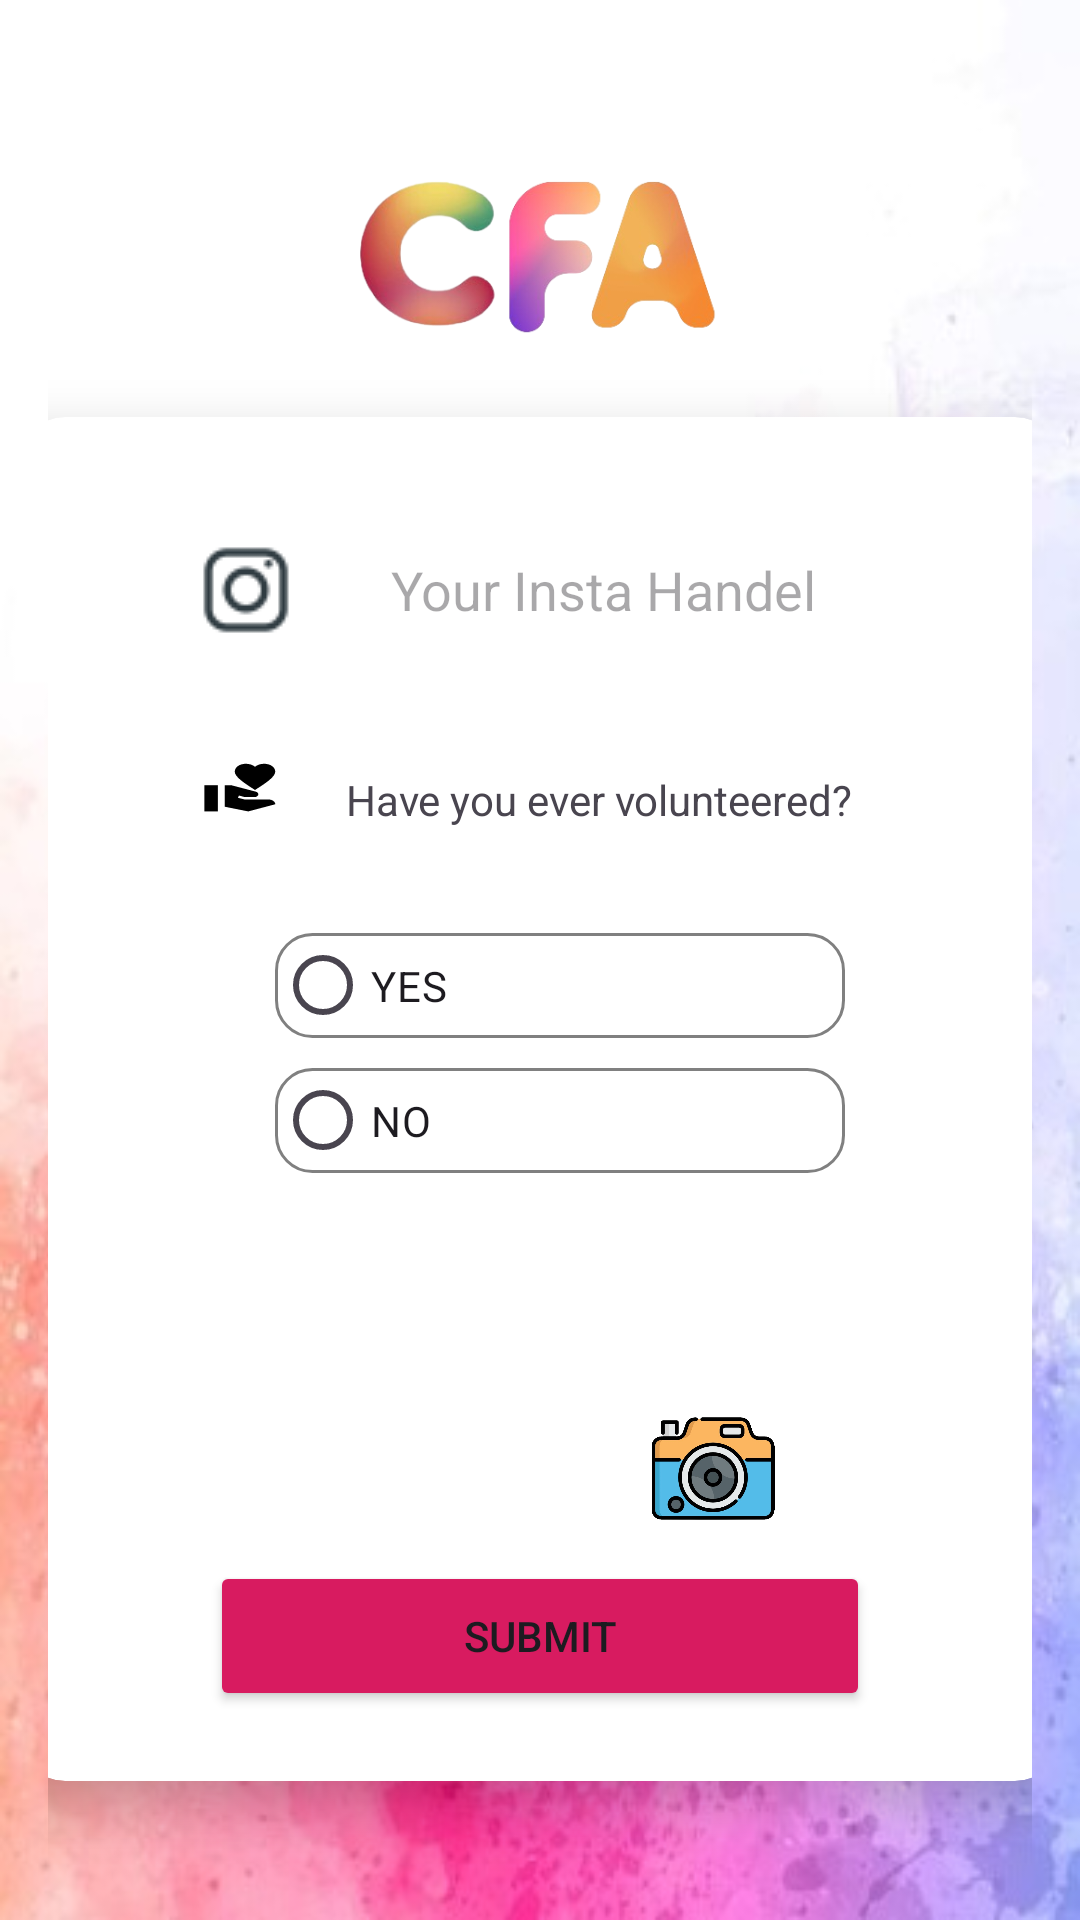

Point at icon controls on the screen. Image size 1080x1920, points as (x,y).
camera: (713,1468)
